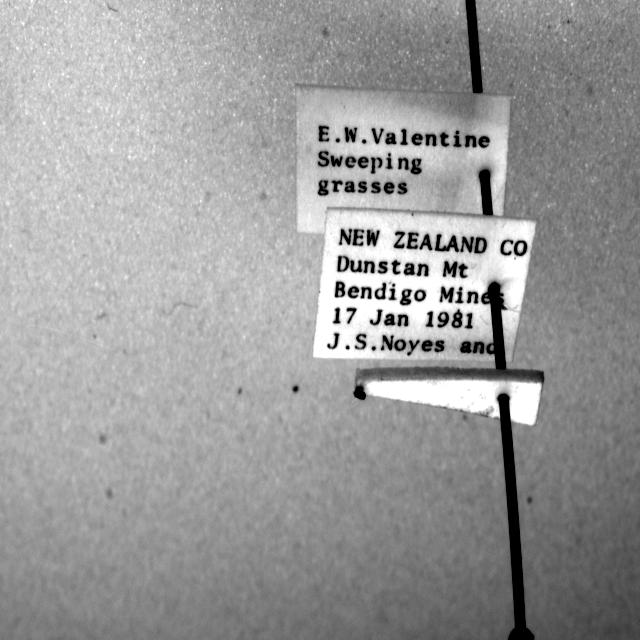typed_label: (314, 208, 535, 362), (296, 84, 511, 234)
